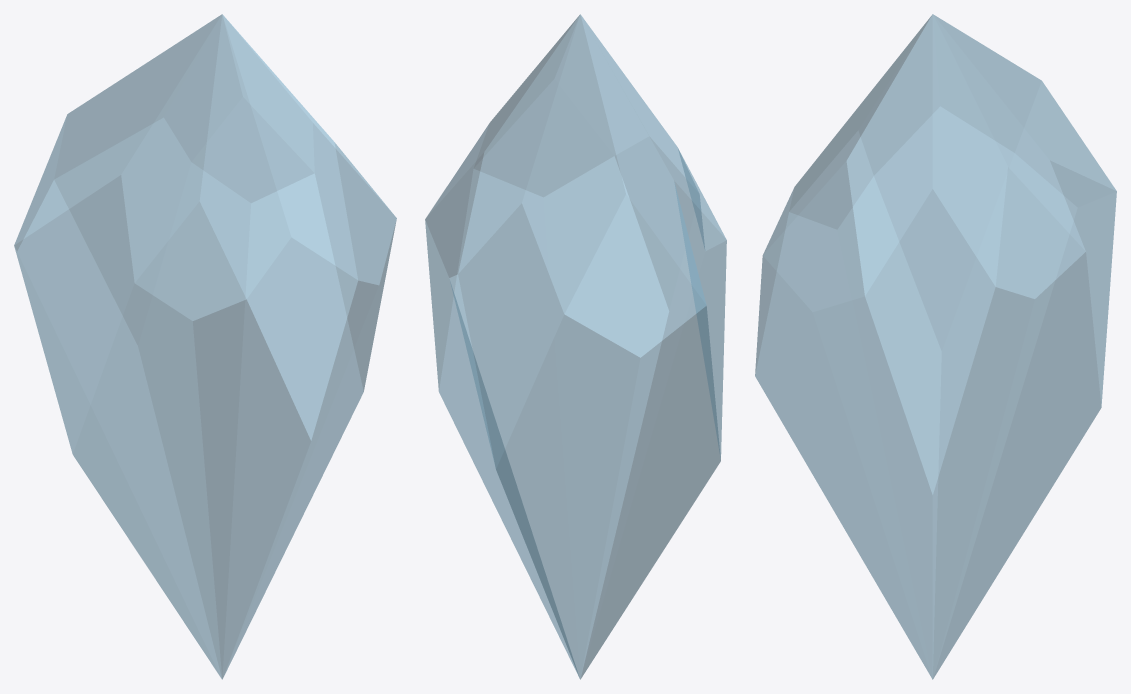
Rendered from crystal.glb.
3 views of the same model, side by side, from view 1: azimuth 30°, elevation 25°; view 2: azimuth 150°, elevation 25°; view 3: azimuth 270°, elevation 25° (orthographic).
Parts seen in each view (by area): view 1: Cylinder; view 2: Cylinder; view 3: Cylinder.
Part boxes in pixels (x1=…): Cylinder: x1=14, y1=14, x2=396, y2=679; Cylinder: x1=425, y1=14, x2=726, y2=679; Cylinder: x1=755, y1=14, x2=1116, y2=679.
Bounding box in the file's own units: 1.36 × 2.81 × 1.39.
